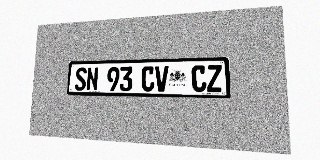3: (119, 66, 132, 91)
9: (107, 67, 120, 91)
C: (191, 65, 206, 92), (141, 66, 155, 91)
N: (86, 67, 98, 91)
S: (75, 67, 87, 91)
V: (155, 66, 168, 92)
Z: (207, 65, 222, 92)
